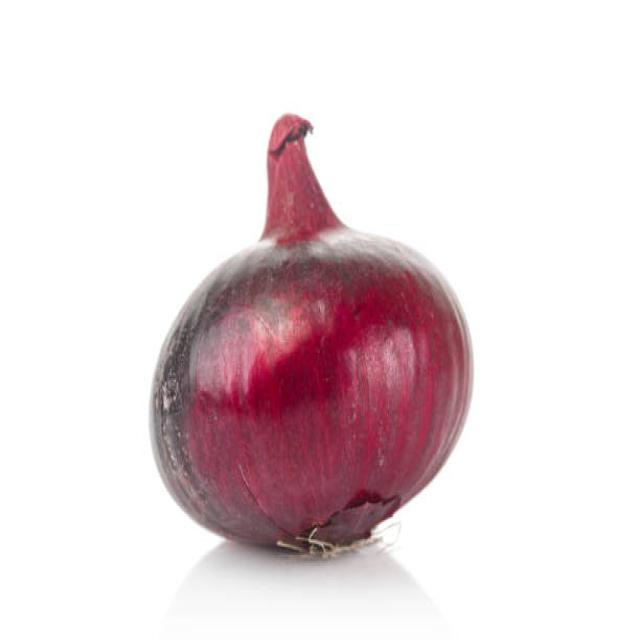onion: (144, 206, 472, 544)
